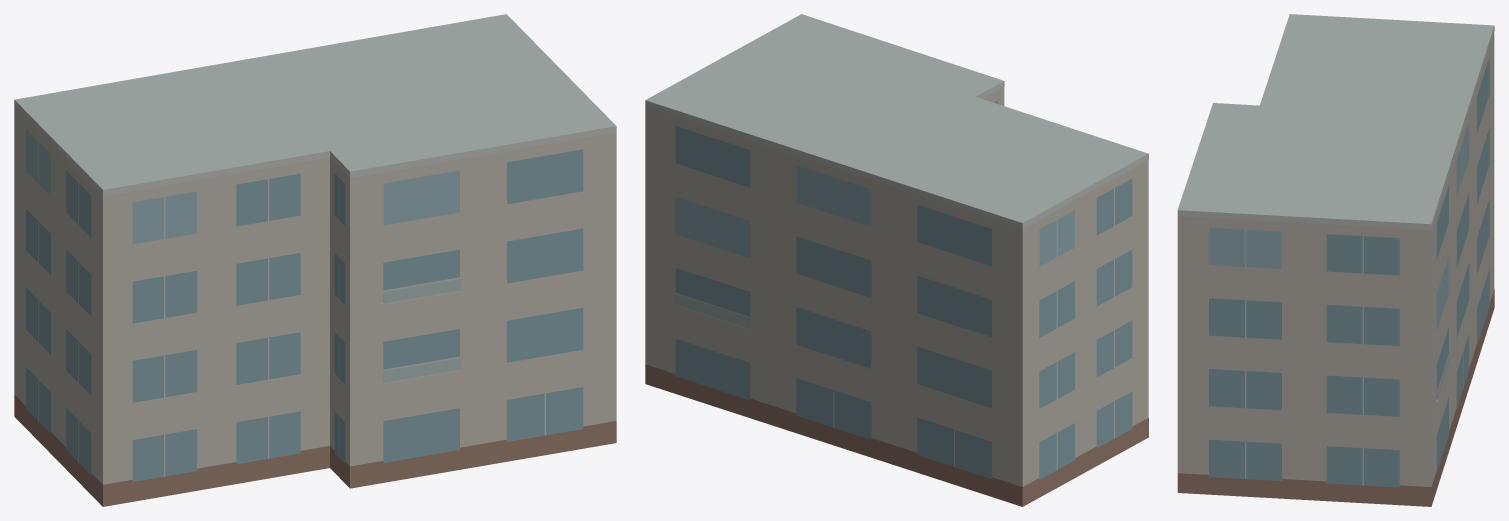
File: survey-upis-32630197.glb
3 renders of one model, left to right at view 1: azimuth 30°, elevation 25°; view 2: azimuth 150°, elevation 25°; view 3: azimuth 270°, elevation 25°, orthographic. The views are drawn at different scales.
Visible parts, largest first — view 1: survey-upis-32630197.tmp; view 2: survey-upis-32630197.tmp; view 3: survey-upis-32630197.tmp.
Boxes of the visible parts, box(x1,y1,x2,y2) form: survey-upis-32630197.tmp: box(14, 14, 616, 506); survey-upis-32630197.tmp: box(645, 14, 1148, 506); survey-upis-32630197.tmp: box(1177, 14, 1494, 506).
Size of the model in its own units: 18.67 by 11.7 by 11.9.
